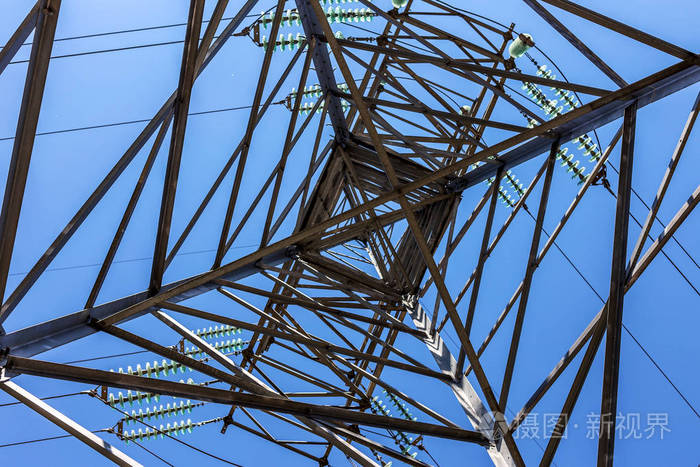insulator: (105, 359, 188, 409), (121, 401, 195, 443), (518, 63, 573, 115), (250, 11, 307, 50), (480, 166, 529, 209), (557, 136, 603, 179), (180, 327, 246, 356), (287, 82, 325, 115), (322, 6, 376, 23)
